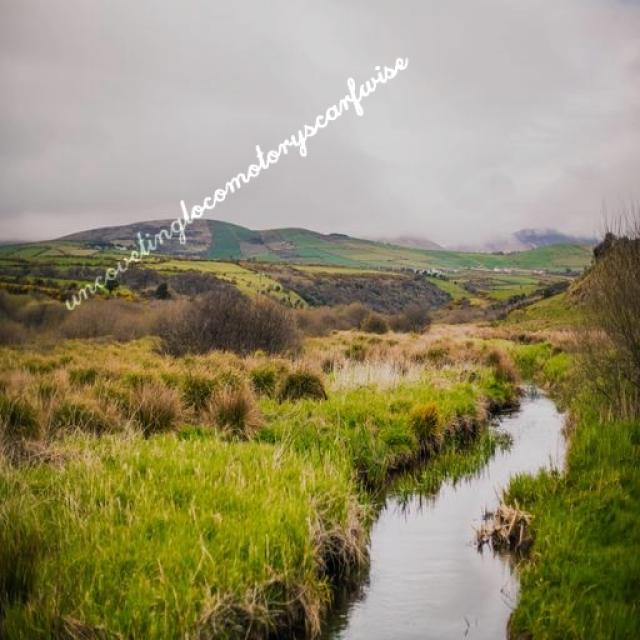watermark: (61, 37, 410, 316)
